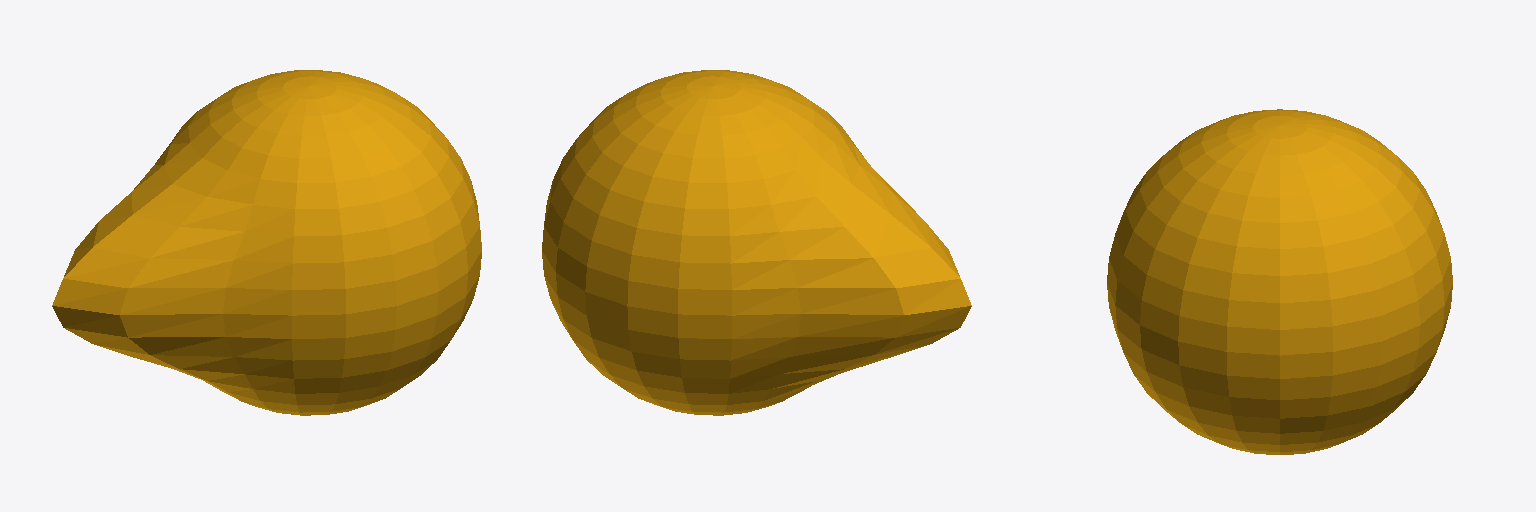
File: bullet.obj
3 views of the same model, side by side, from view 1: azimuth 30°, elevation 25°; view 2: azimuth 150°, elevation 25°; view 3: azimuth 270°, elevation 25° (orthographic).
Parts seen in each view (by area): view 1: pSphere3; view 2: pSphere3; view 3: pSphere3.
Part boxes in pixels (bbox=[...]): pSphere3: bbox=[52, 70, 481, 415]; pSphere3: bbox=[542, 70, 971, 415]; pSphere3: bbox=[1107, 109, 1452, 454].
Bounding box in the file's own units: 0.7361 × 0.5413 × 0.5413.